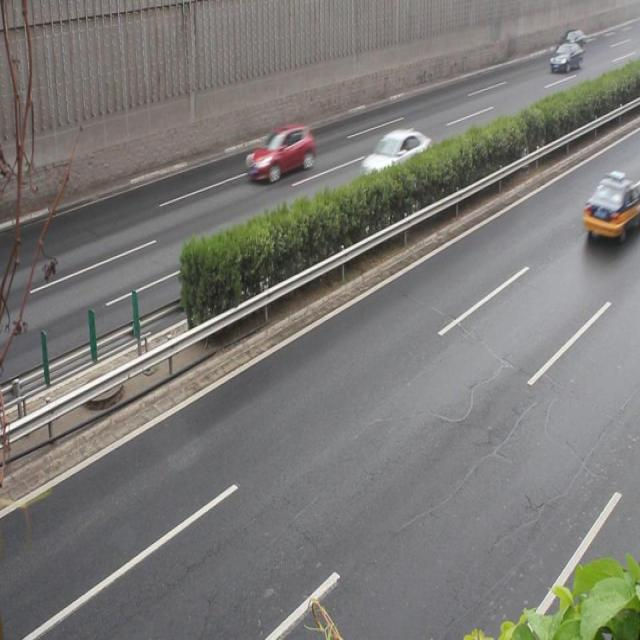car: (359, 129, 431, 190), (245, 124, 312, 185), (582, 174, 640, 242)
